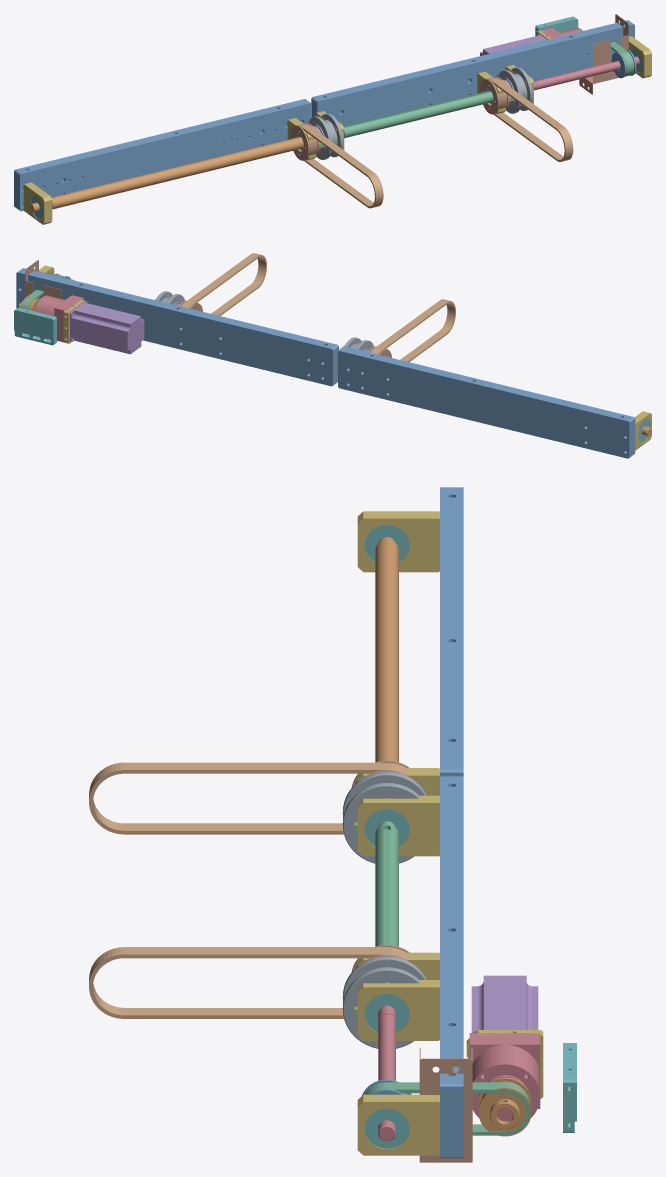
The picture shows the model from 3 angles, top to bottom: view 1: azimuth 30°, elevation 25°; view 2: azimuth 150°, elevation 25°; view 3: azimuth 270°, elevation 25°; orthographic projection. The views are drawn at different scales.
Parts seen in each view (by area): view 1: part_11_0_1, part_11_0_0, part_18_1_0, part_17_2_0, part_07_22_0, part_07_27_0, part_09_35_0, part_10_3_0, part_05_19_0, part_05_24_0, part_01_6_0, part_03_18_0 (+6 smaller); view 2: part_11_0_1, part_11_0_0, part_20_32_0, part_07_27_0, part_07_22_0, part_13_34_0, part_19_31_0, part_09_35_0, part_01_6_0; view 3: part_11_0_0, part_11_0_1, part_07_22_0, part_07_27_0, part_18_1_0, part_19_31_0, part_01_16_0, part_01_6_0, part_20_32_0, part_01_10_0, part_01_14_0, part_17_2_0 (+9 smaller).
Boxes of the visible parts, bbox=[...] form: part_11_0_1: bbox=[14, 99, 311, 211]; part_11_0_0: bbox=[311, 20, 634, 126]; part_18_1_0: bbox=[30, 137, 303, 212]; part_17_2_0: bbox=[343, 90, 493, 138]; part_07_22_0: bbox=[298, 123, 383, 208]; part_07_27_0: bbox=[488, 77, 573, 161]; part_09_35_0: bbox=[579, 14, 628, 94]; part_10_3_0: bbox=[534, 56, 639, 90]; part_05_19_0: bbox=[308, 113, 343, 159]; part_05_24_0: bbox=[498, 67, 533, 113]; part_01_6_0: bbox=[23, 182, 52, 224]; part_03_18_0: bbox=[290, 122, 321, 160]; part_11_0_1: bbox=[338, 346, 635, 458]; part_11_0_0: bbox=[16, 268, 338, 386]; part_20_32_0: bbox=[70, 301, 144, 354]; part_07_27_0: bbox=[181, 253, 266, 315]; part_07_22_0: bbox=[370, 299, 455, 362]; part_13_34_0: bbox=[14, 307, 56, 345]; part_19_31_0: bbox=[35, 295, 83, 342]; part_09_35_0: bbox=[25, 260, 73, 298]; part_01_6_0: bbox=[634, 411, 651, 450]; part_11_0_0: bbox=[440, 776, 463, 1158]; part_11_0_1: bbox=[440, 487, 463, 776]; part_07_22_0: bbox=[89, 762, 406, 834]; part_07_27_0: bbox=[89, 947, 406, 1018]; part_18_1_0: bbox=[375, 537, 398, 762]; part_19_31_0: bbox=[469, 1033, 540, 1121]; part_01_16_0: bbox=[357, 1094, 439, 1155]; part_01_6_0: bbox=[357, 511, 439, 572]; part_20_32_0: bbox=[471, 975, 538, 1032]; part_01_10_0: bbox=[357, 795, 439, 856]; part_01_14_0: bbox=[357, 980, 439, 1040]; part_17_2_0: bbox=[375, 821, 398, 946].
Bounding box in the file's own units: 1205 × 117 × 414.
